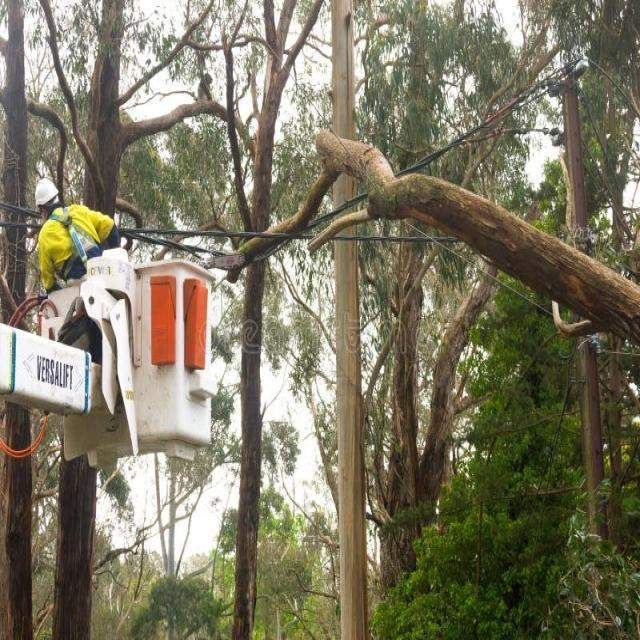Arnes_seguridad: (49, 206, 101, 276)
